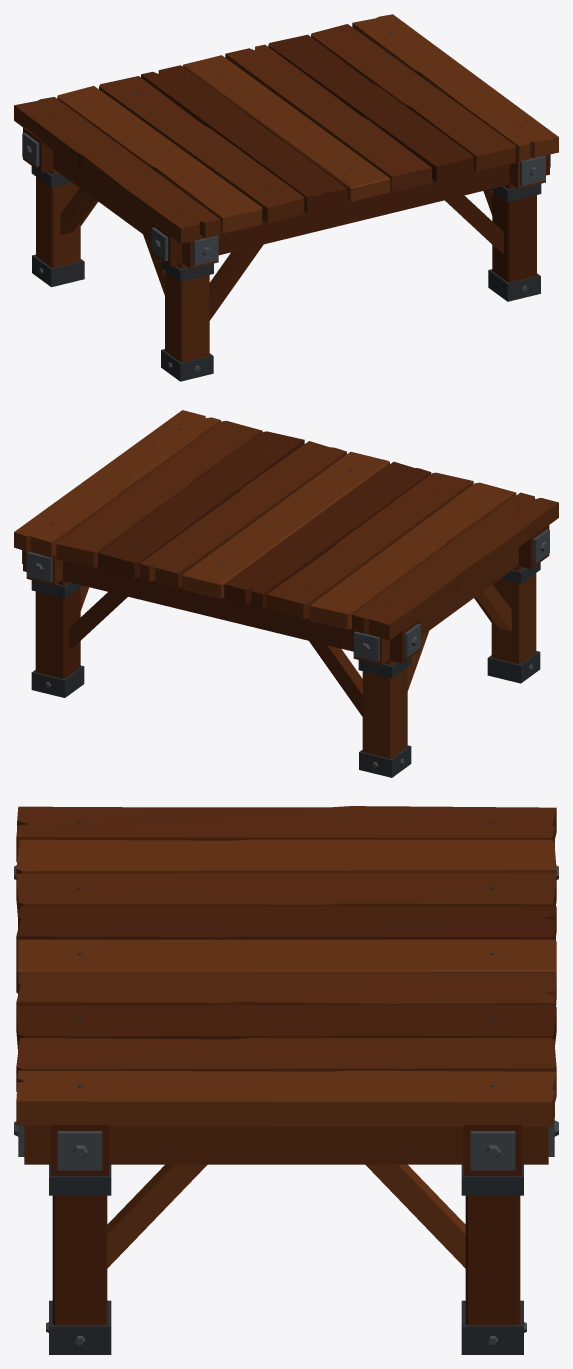
The model's file is Timber Walkway Module.obj.
3 views of the same model, one above another, from view 1: azimuth 30°, elevation 25°; view 2: azimuth 150°, elevation 25°; view 3: azimuth 270°, elevation 25° (orthographic). The views are drawn at different scales.
Visible parts, largest first — view 1: Timber_Walkway_Module.Static; view 2: Timber_Walkway_Module.Static; view 3: Timber_Walkway_Module.Static.
Part boxes in pixels (x1=…): Timber_Walkway_Module.Static: x1=14, y1=14, x2=558, y2=381; Timber_Walkway_Module.Static: x1=14, y1=410, x2=558, y2=777; Timber_Walkway_Module.Static: x1=14, y1=806, x2=558, y2=1354.
Size of the model in its own units: 1.85 by 0.739 by 1.4.
